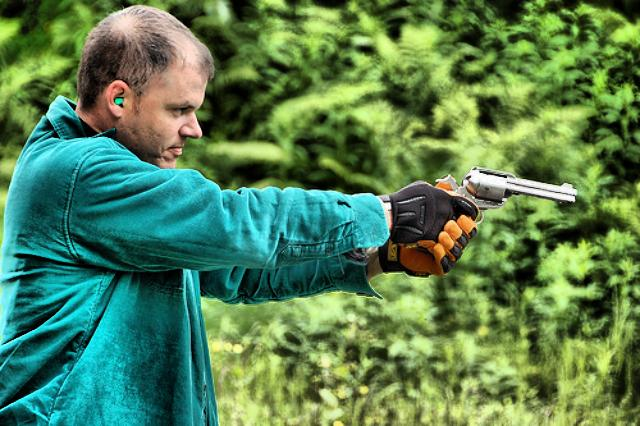pistol: (405, 167, 579, 250)
